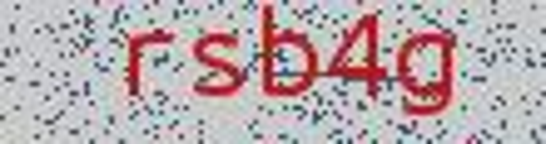4: (324, 4, 388, 105)
b: (251, 3, 322, 106)
g: (390, 25, 463, 122)
r: (119, 17, 181, 107)
s: (188, 25, 244, 106)
